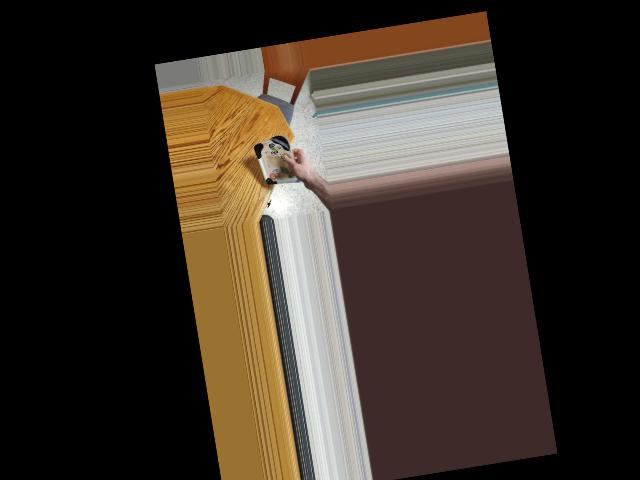cheese: (252, 131, 304, 189)
